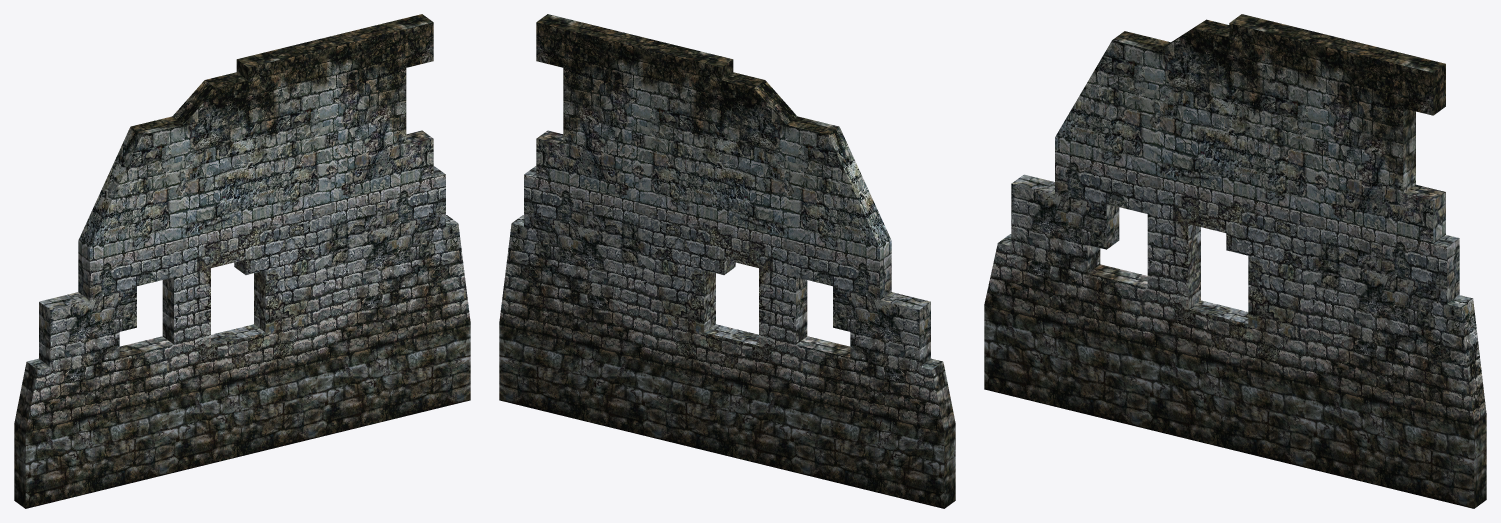
3 renders of one model, left to right at view 1: azimuth 30°, elevation 25°; view 2: azimuth 150°, elevation 25°; view 3: azimuth 330°, elevation 25°, orthographic. The views are drawn at different scales.
Visible parts, largest first — view 1: hr_hf3a; view 2: hr_hf3a; view 3: hr_hf3a.
Part boxes in pixels (box(x1,y1,x2,y2)): hr_hf3a: box(14, 14, 470, 508); hr_hf3a: box(499, 14, 955, 508); hr_hf3a: box(984, 14, 1486, 508).
Size of the model in its own units: 9 by 7.48 by 0.4005.
Materials: 5 (5 with a texture image).
